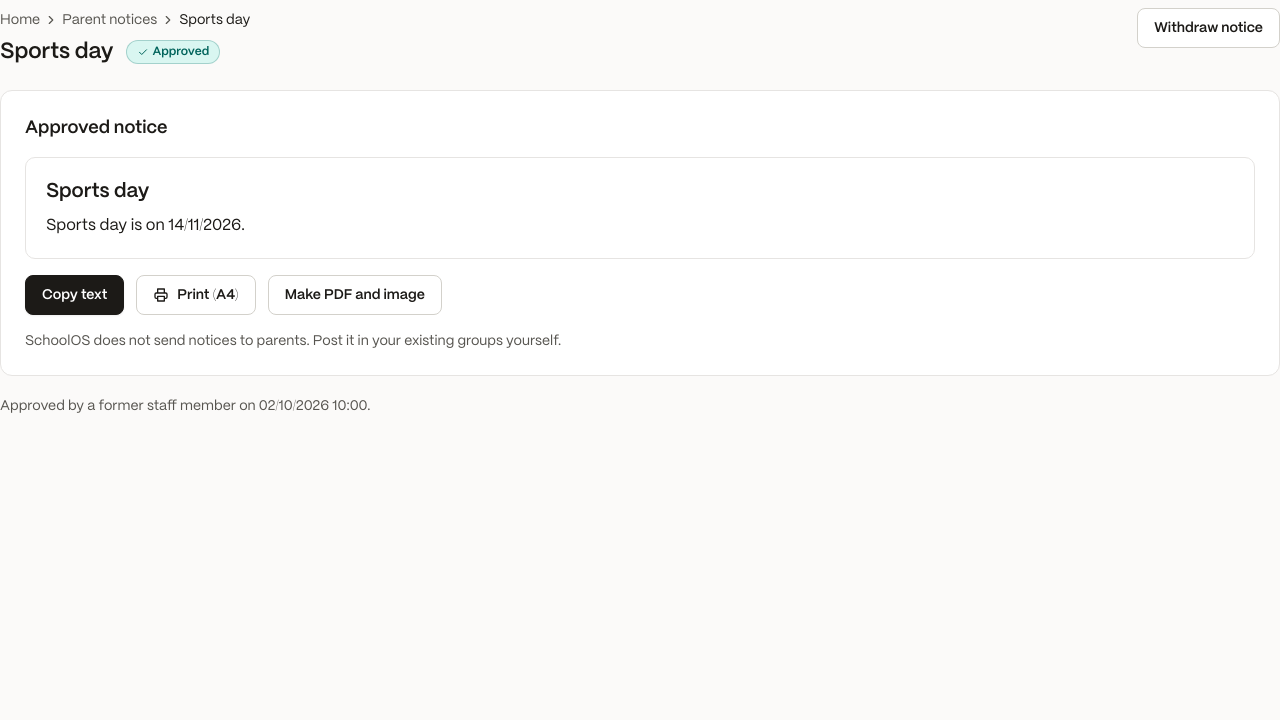
Test: withdraw a notice (FR-NOTICE-009) › asks for a reason, sends If-Match and shows the withdrawn notice
Click the button "Withdraw notice".
click(1209, 28)  # box [1137, 8, 1279, 48]
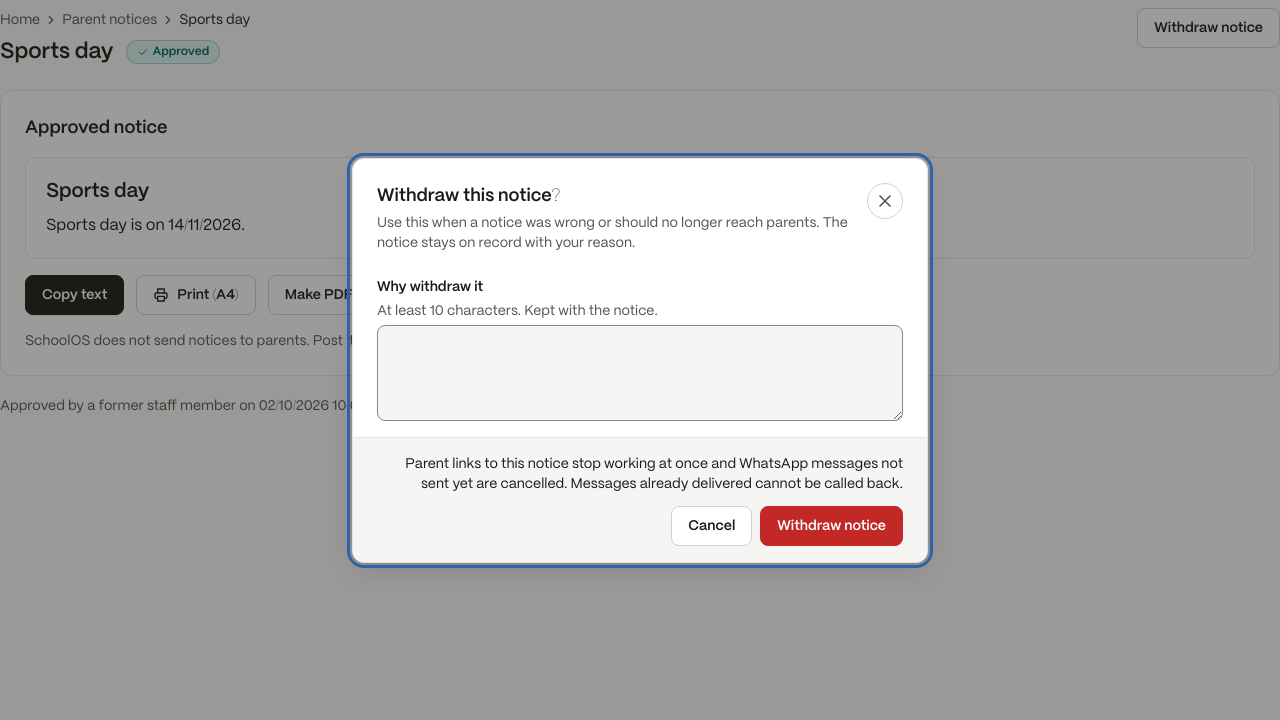
Check: the text "Parent links to this notice stop working at once and WhatsApp messages not sent yet are cancelled. Messages already deli" is shown, box [405, 456, 903, 490]
Type "The date in this notice was wrong" into the text box labelled "Why withdraw it".
click(640, 372); type("The date in this notice was wrong")  # box [377, 324, 903, 420]
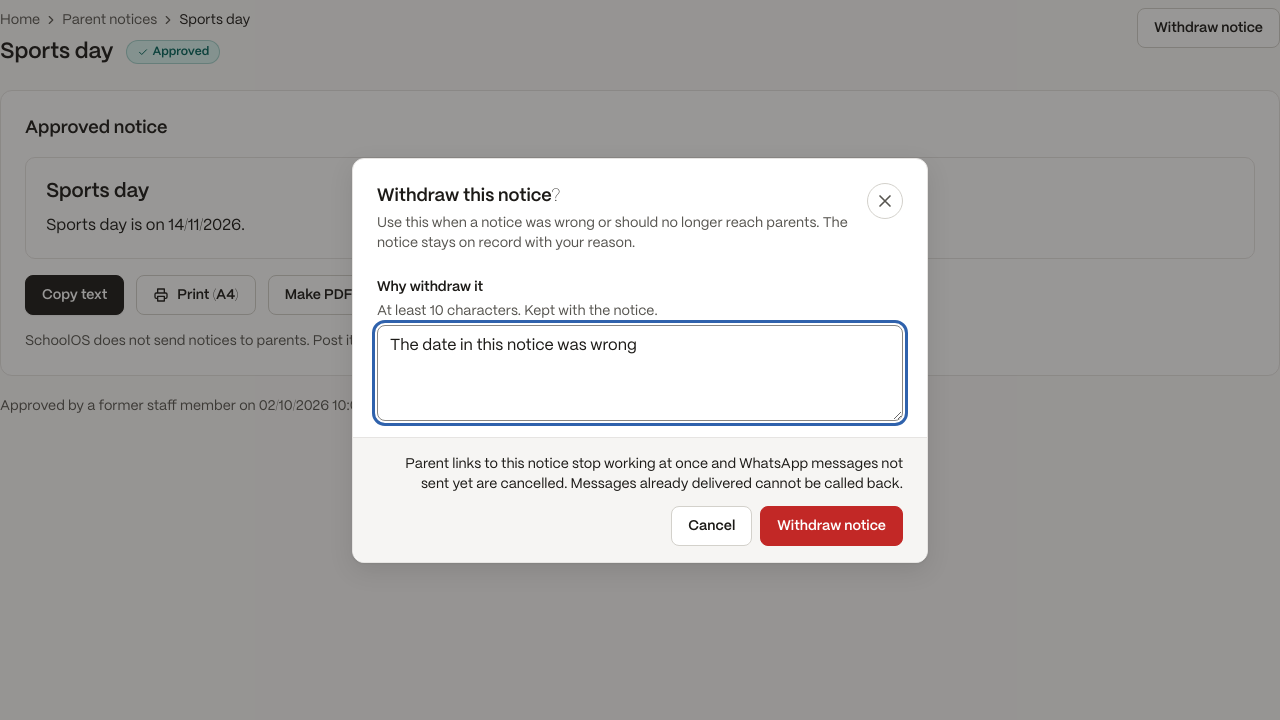
Click the button "Withdraw notice" below "Withdraw this notice?".
click(832, 526)  # box [760, 506, 903, 546]
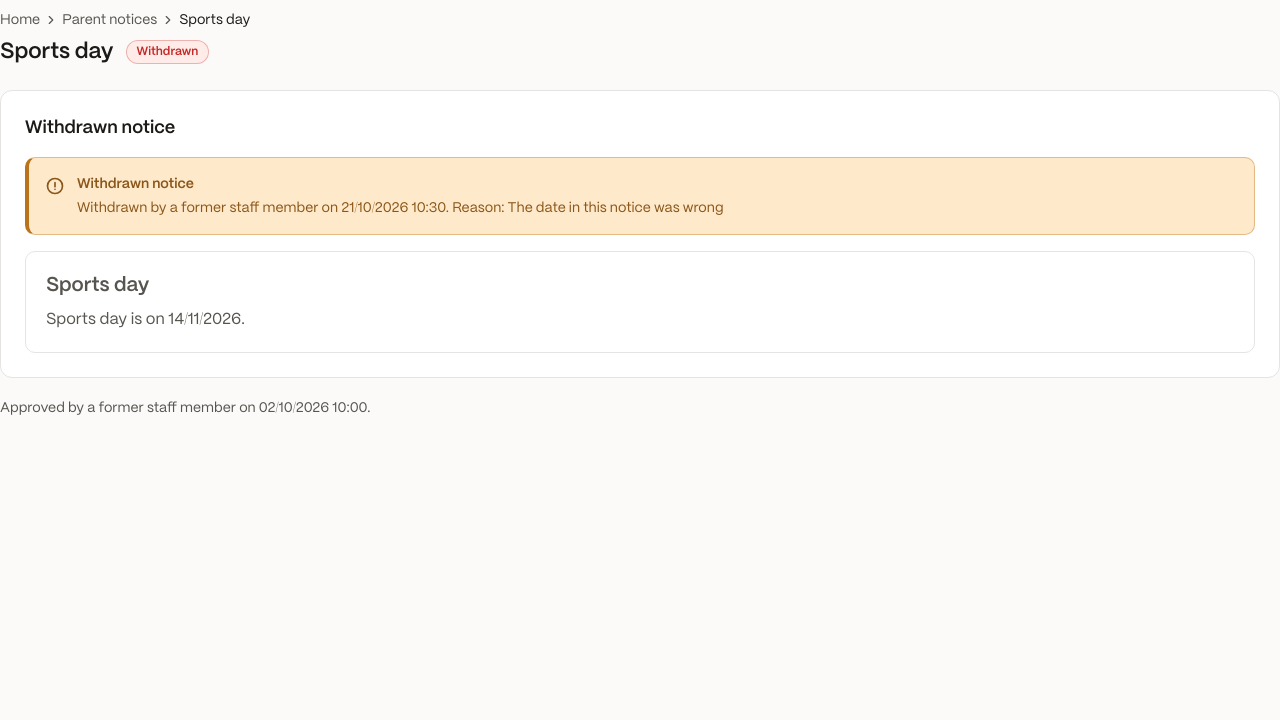
Check: the text "Reason: The date in this notice was wrong" is shown, box [452, 201, 724, 215]
Check: the text "Withdrawn" is shown, box [126, 40, 209, 64]
Check: the button "Withdraw notice" is gone
